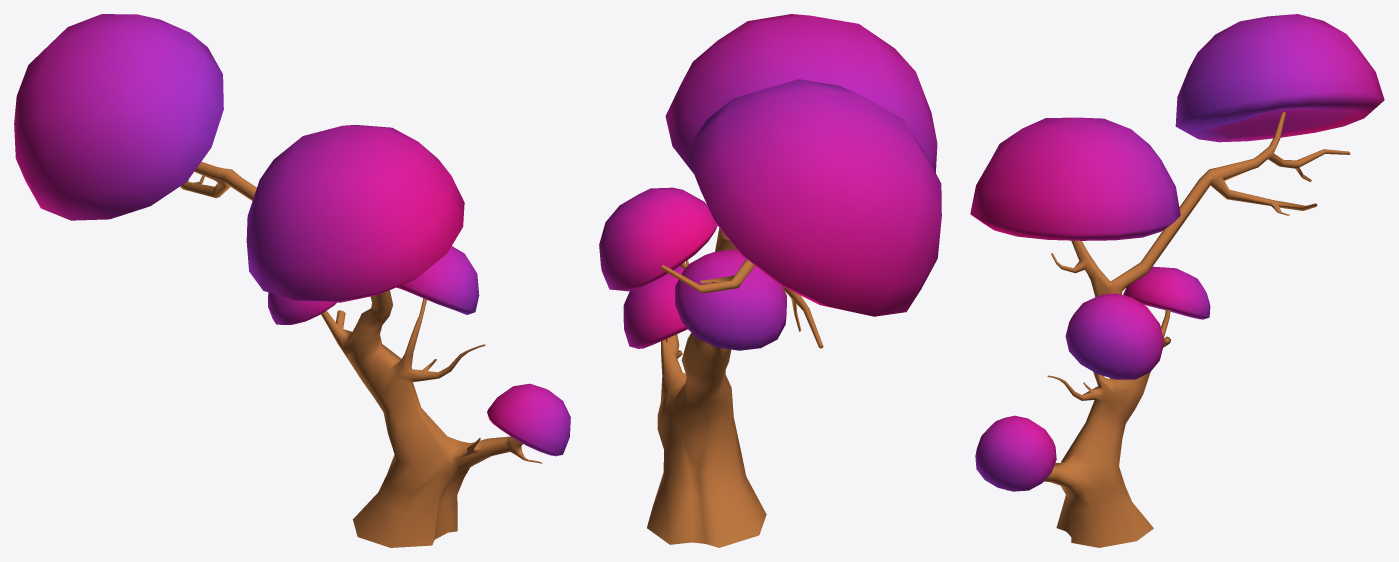
Rendered from SM_Tree_22.fbx.
3 views of the same model, side by side, from view 1: azimuth 30°, elevation 25°; view 2: azimuth 150°, elevation 25°; view 3: azimuth 270°, elevation 25° (orthographic). The views are drawn at different scales.
Visible parts, largest first — view 1: SM_Tree_22; view 2: SM_Tree_22; view 3: SM_Tree_22.
Part boxes in pixels (x1,y1,x2,y2): SM_Tree_22: (14,14,570,547); SM_Tree_22: (599,14,941,547); SM_Tree_22: (970,14,1384,547).
Size of the model in its own units: 1000 by 1155 by 1016.
